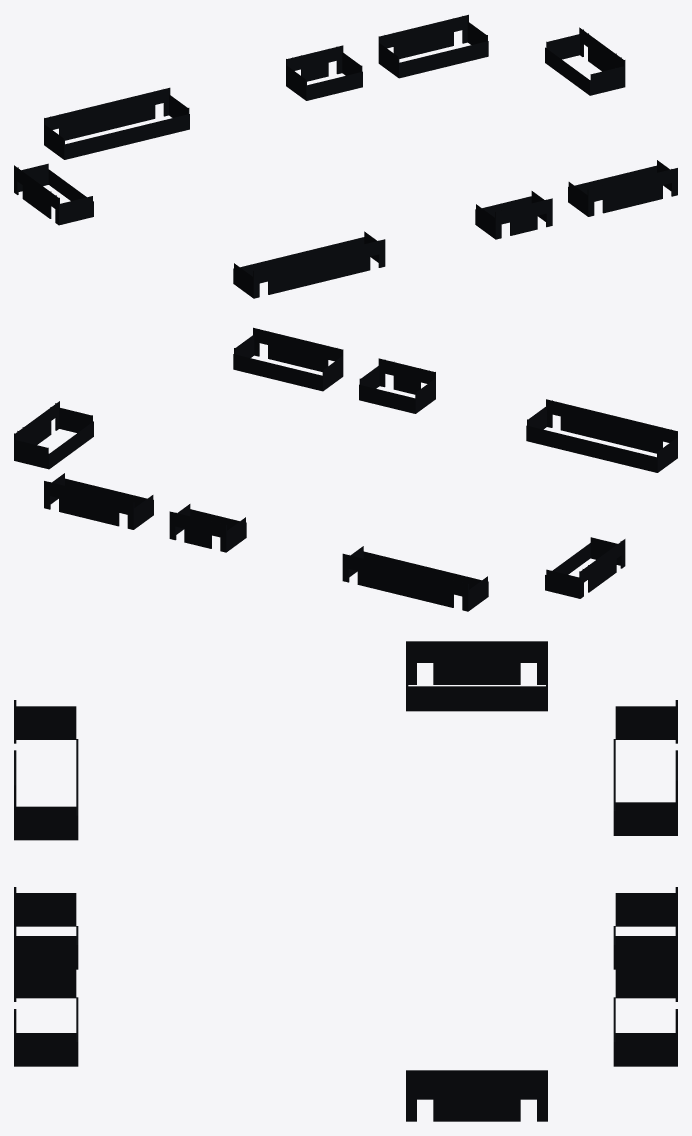
The model's file is tt_struct_f3_walls.glb.
3 views of the same model, one above another, from view 1: azimuth 30°, elevation 25°; view 2: azimuth 150°, elevation 25°; view 3: azimuth 270°, elevation 25° (orthographic). The views are drawn at different scales.
Parts seen in each view (by area): view 1: WC_Shells_F3; view 2: WC_Shells_F3; view 3: WC_Shells_F3.
Boxes of the visible parts, box(x1,y1,x2,y2) form: WC_Shells_F3: box(14, 14, 677, 298); WC_Shells_F3: box(14, 327, 677, 611); WC_Shells_F3: box(14, 641, 677, 1121).
Size of what is drawn, in the model's own units: 94.8 by 4.4 by 60.8.
1 material, 1 textured.
